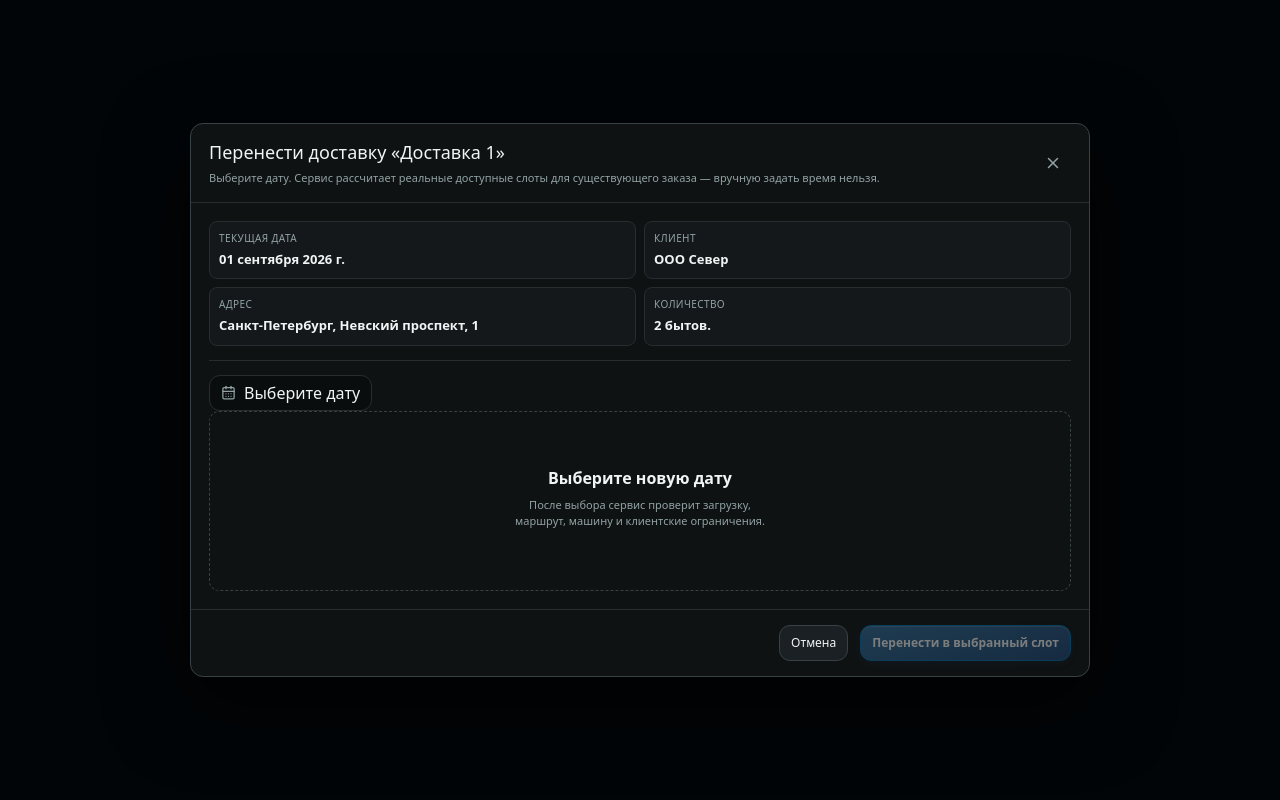
Test case: unassigned delivery reschedule › does not expose an unsafe recovery retry without exact hold fences
The image size is (1280, 800).
Click the button with aria-label "Новая дата доставки" at (291, 393), box [209,375,372,411]
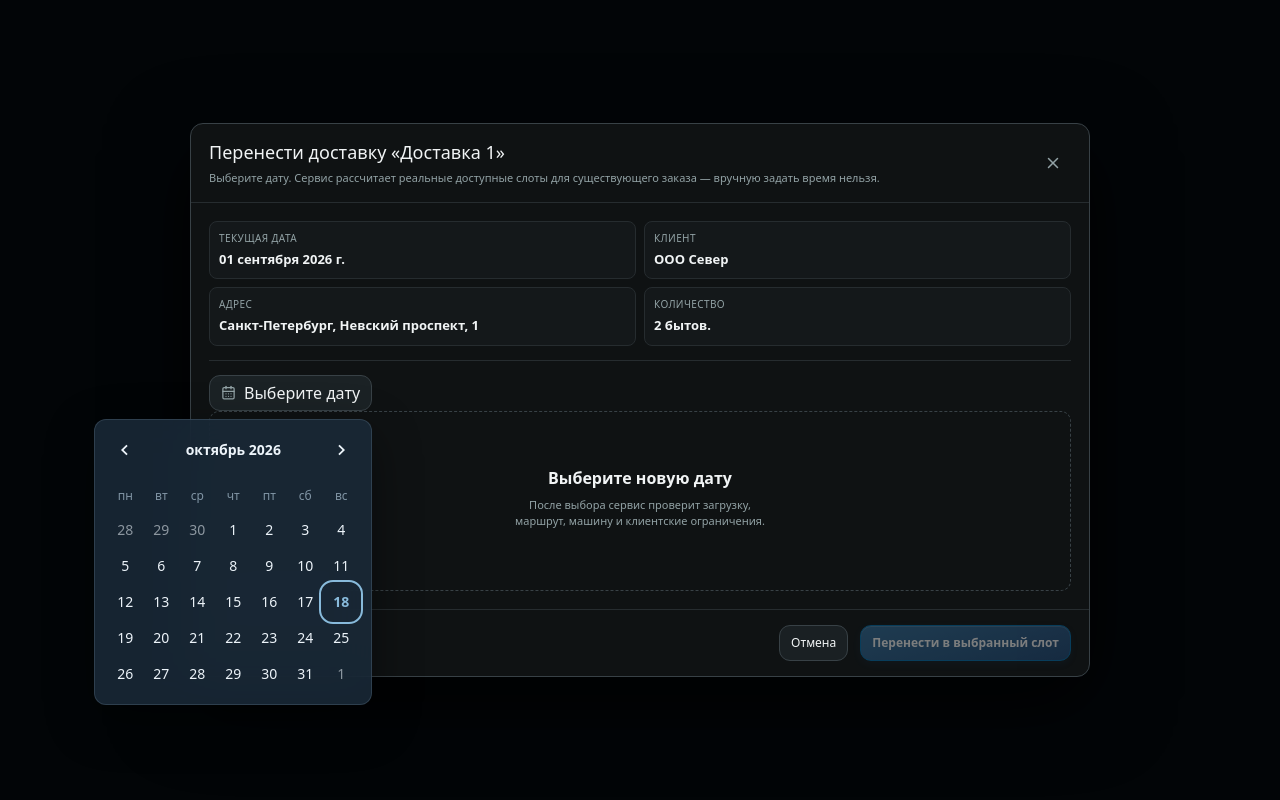
Click the button named "Предыдущий месяц" at (125, 450), box [107,432,143,468]
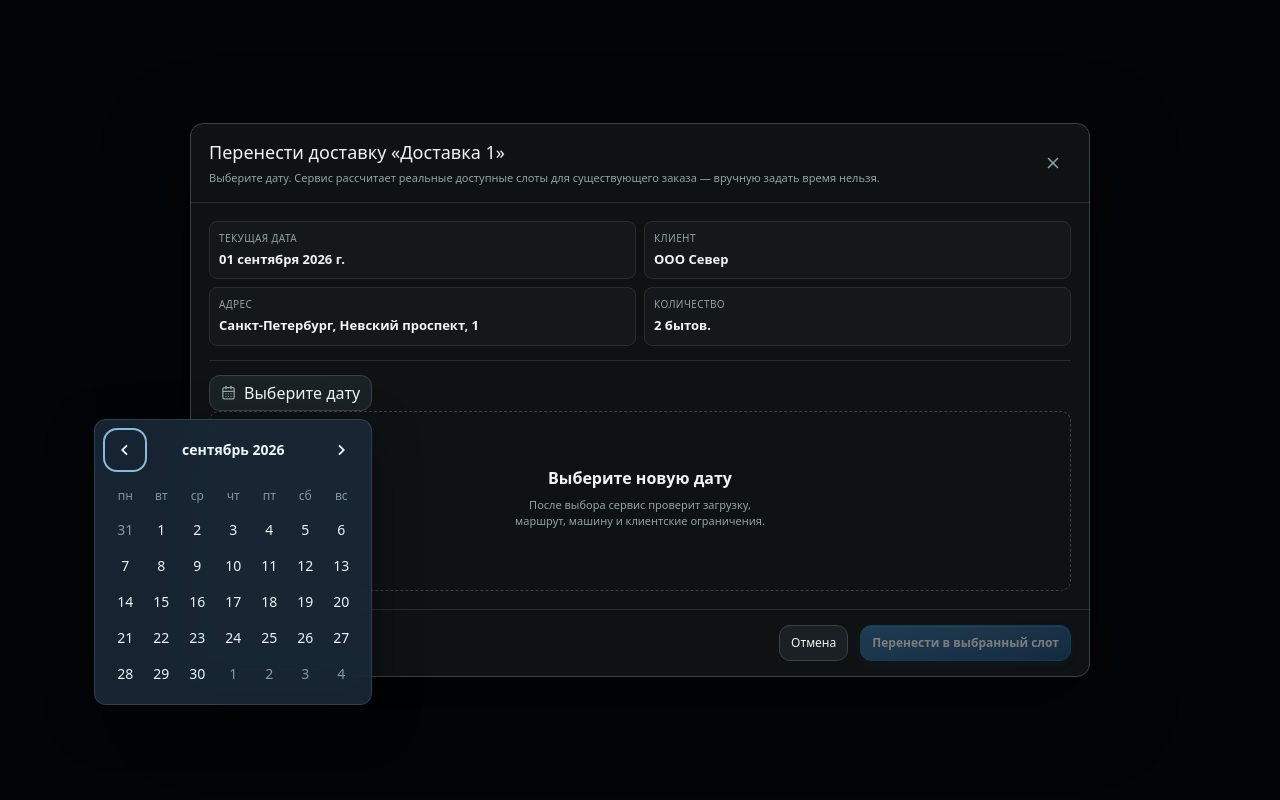
Click the button named "среда, 2 сентября 2026 г." at (197, 530), box [179,512,215,548]
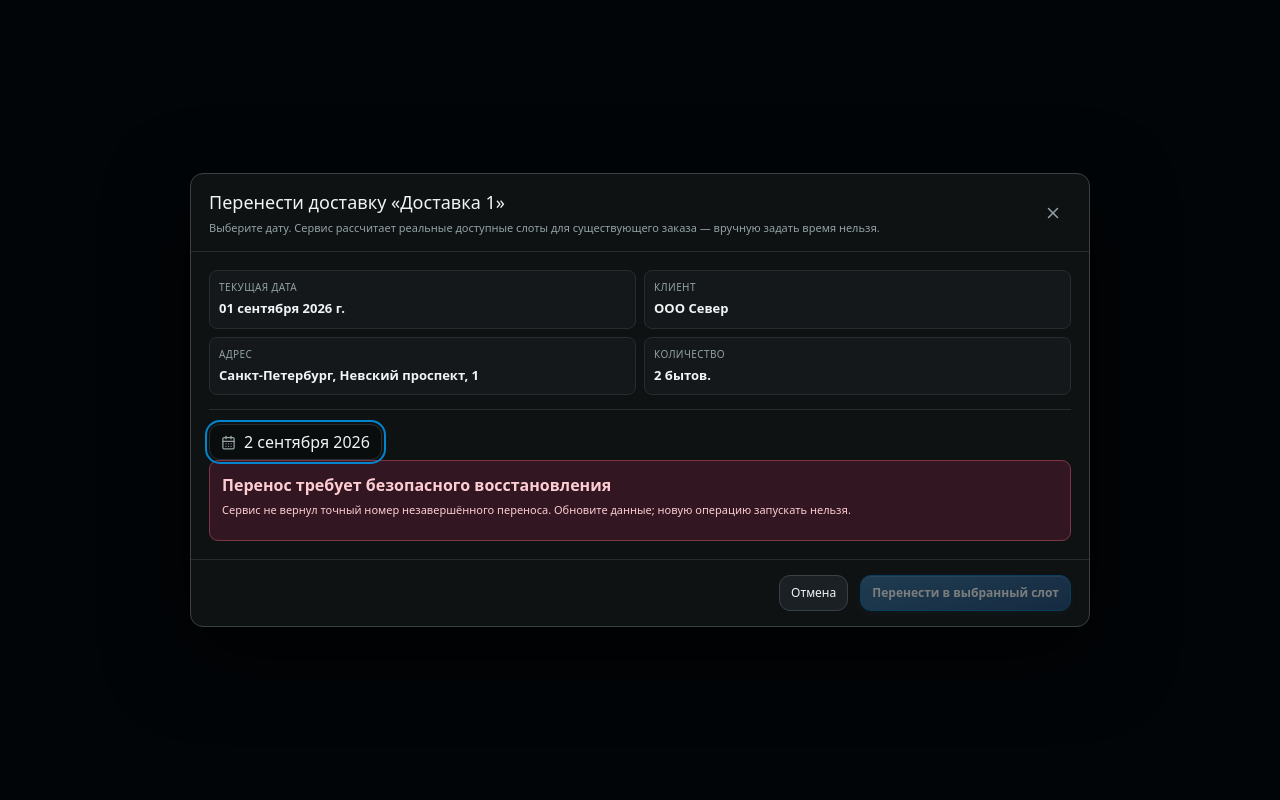
Now the text "Перенос требует безопасного восстановления" is shown, box [222,474,611,496]
